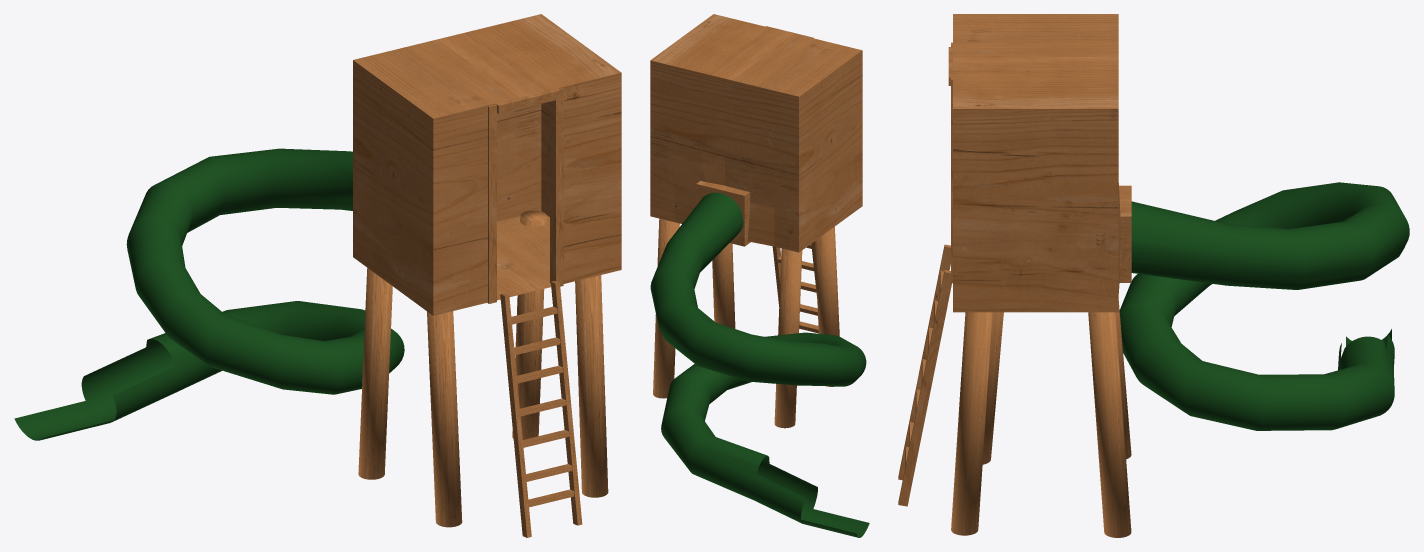
The model's file is slide.glb.
The picture shows the model from 3 angles, left to right: view 1: azimuth 30°, elevation 25°; view 2: azimuth 150°, elevation 25°; view 3: azimuth 270°, elevation 25°; orthographic projection. The views are drawn at different scales.
Parts seen in each view (by area): view 1: lil_house, slide_model, support_poles, Ladder, WoodTrim; view 2: lil_house, slide_model, support_poles, tube_entrance, Ladder; view 3: lil_house, slide_model, support_poles, Ladder, tube_entrance, WoodTrim.
Part boxes in pixels (x1,y1,x2,y2): lil_house: (353,14,621,315); slide_model: (14,148,404,440); support_poles: (358,210,608,527); Ladder: (500,281,582,537); WoodTrim: (487,88,563,303); lil_house: (650,14,862,252); slide_model: (650,192,869,537); support_poles: (653,218,839,428); tube_entrance: (696,181,750,246); Ladder: (772,241,818,333); lil_house: (953,14,1120,312); slide_model: (1119,182,1409,430); support_poles: (951,301,1131,537); Ladder: (898,244,951,506); tube_entrance: (1119,185,1131,282); WoodTrim: (948,42,952,283).
Bounding box in the file's own units: 8.17 × 8.28 × 8.9.
Materials: 2 (2 with a texture image).
